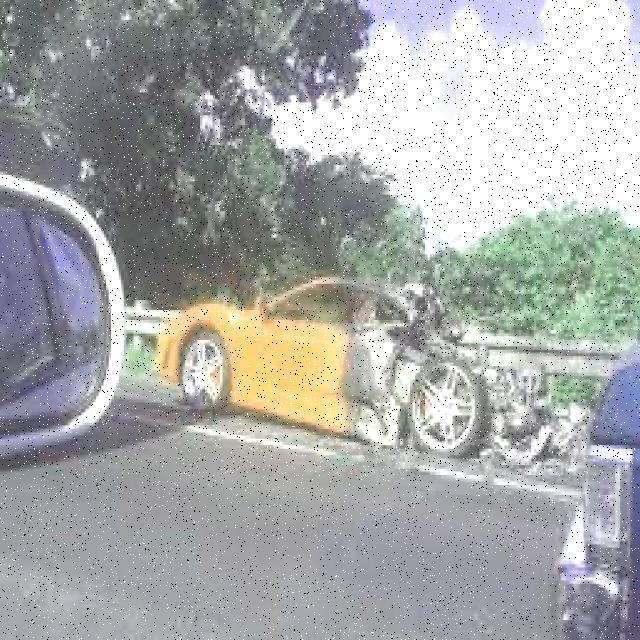car damage: (340, 282, 587, 467)
